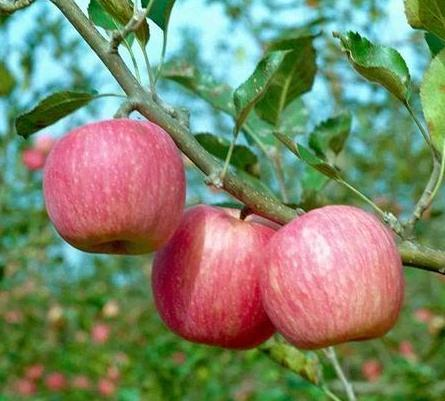apple: (39, 117, 185, 255), (259, 202, 401, 343), (151, 205, 281, 348)
